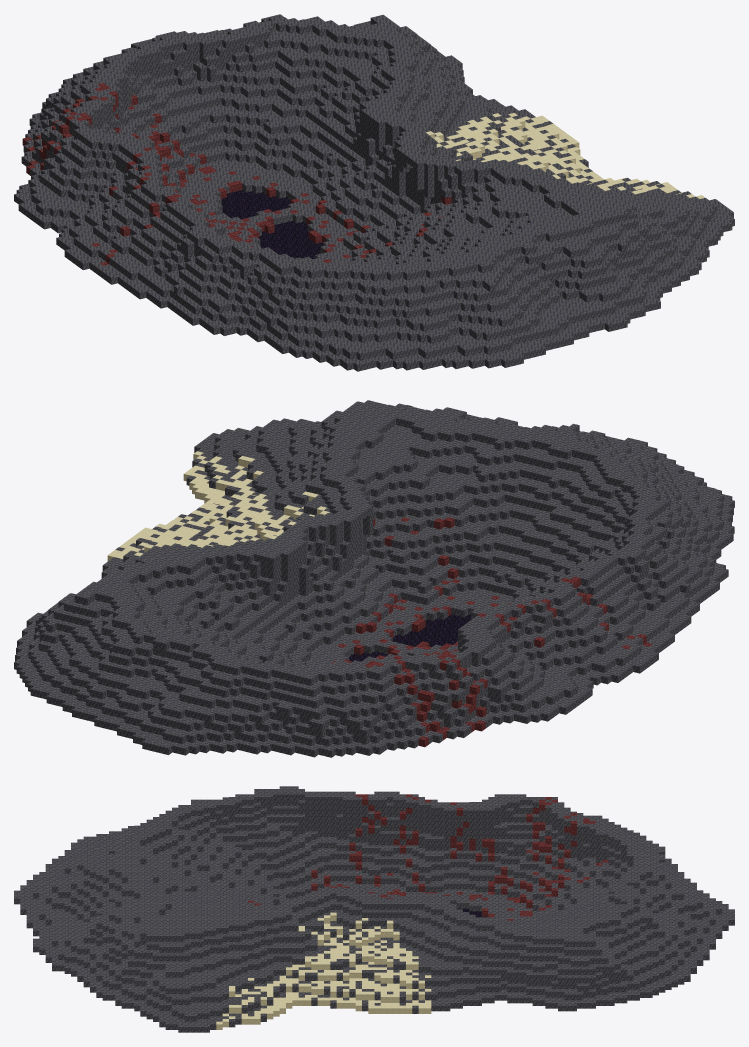
3 renders of one model, top to bottom at view 1: azimuth 30°, elevation 25°; view 2: azimuth 150°, elevation 25°; view 3: azimuth 270°, elevation 25°, orthographic. The views are drawn at different scales.
Parts seen in each view (by area): view 1: Smooth_Basalt, Netherrack, Sandstone, Obsidian; view 2: Smooth_Basalt, Sandstone, Netherrack, Obsidian; view 3: Smooth_Basalt, Sandstone, Netherrack.
Part boxes in pixels (x1,y1,x2,y2): Smooth_Basalt: [14, 14, 734, 371]; Netherrack: [22, 83, 451, 265]; Sandstone: [426, 113, 705, 198]; Obsidian: [219, 190, 322, 259]; Smooth_Basalt: [14, 400, 734, 757]; Sandstone: [107, 451, 329, 561]; Netherrack: [331, 517, 652, 747]; Obsidian: [349, 614, 471, 661]; Smooth_Basalt: [14, 786, 734, 1032]; Sandstone: [216, 912, 431, 1029]; Netherrack: [248, 794, 608, 920].
Bounding box in the file's own units: 85 × 13 × 114.
Materials: 4 (4 with a texture image).
